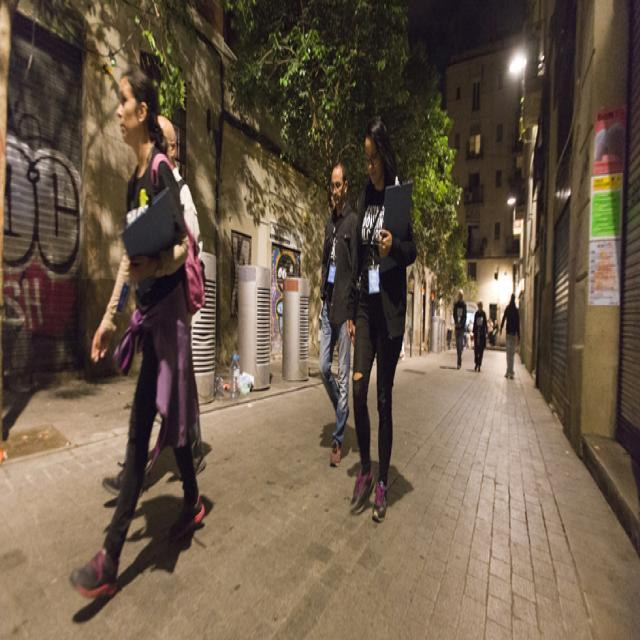person: (72, 79, 218, 604), (342, 117, 416, 530), (314, 155, 361, 471), (496, 286, 518, 384), (448, 284, 470, 376), (468, 294, 490, 374)
